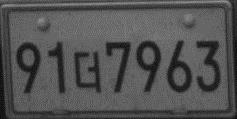1: (42, 39, 71, 95)
3: (194, 38, 221, 93)
6: (165, 39, 193, 93)
7: (104, 39, 131, 94)
9: (134, 38, 162, 93), (14, 41, 41, 96)
더: (72, 50, 103, 93)
